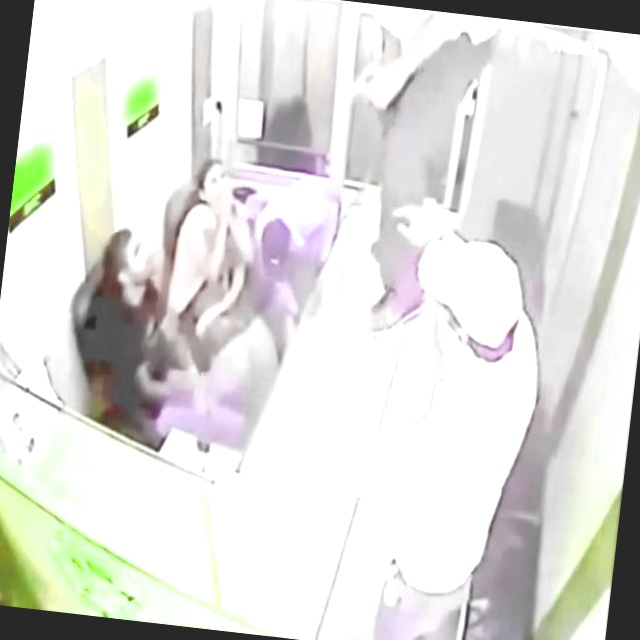gun: (340, 56, 396, 120)
